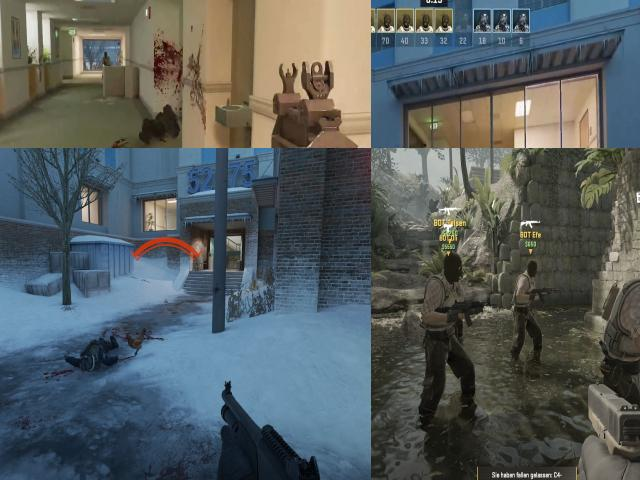Dead: (138, 101, 184, 146), (77, 336, 120, 373)
T: (598, 238, 640, 440), (423, 254, 474, 419), (513, 257, 544, 378), (102, 49, 111, 67), (417, 141, 428, 148)
T-Head: (442, 250, 463, 282), (524, 258, 539, 278), (102, 49, 110, 60)
